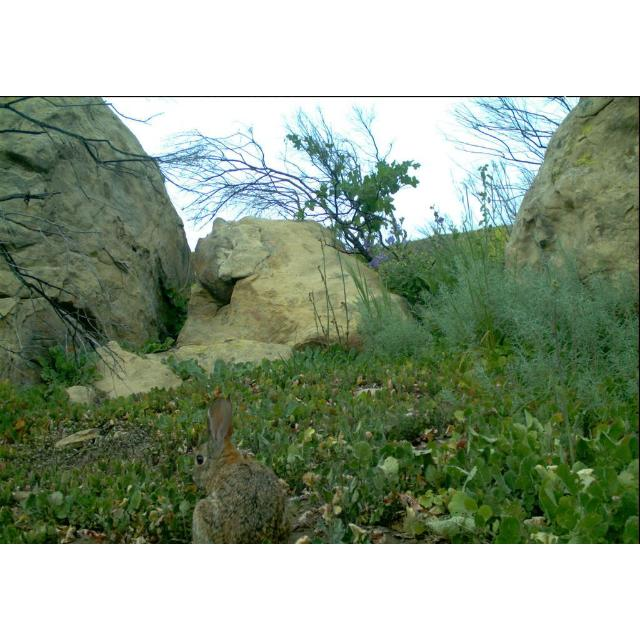animals: (188, 394, 288, 544)
